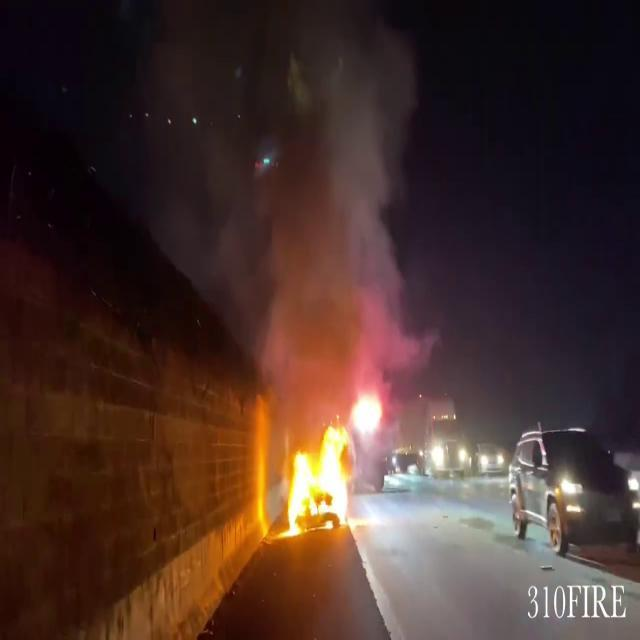Fire: (272, 421, 360, 536)
Smoke: (250, 4, 433, 399)
